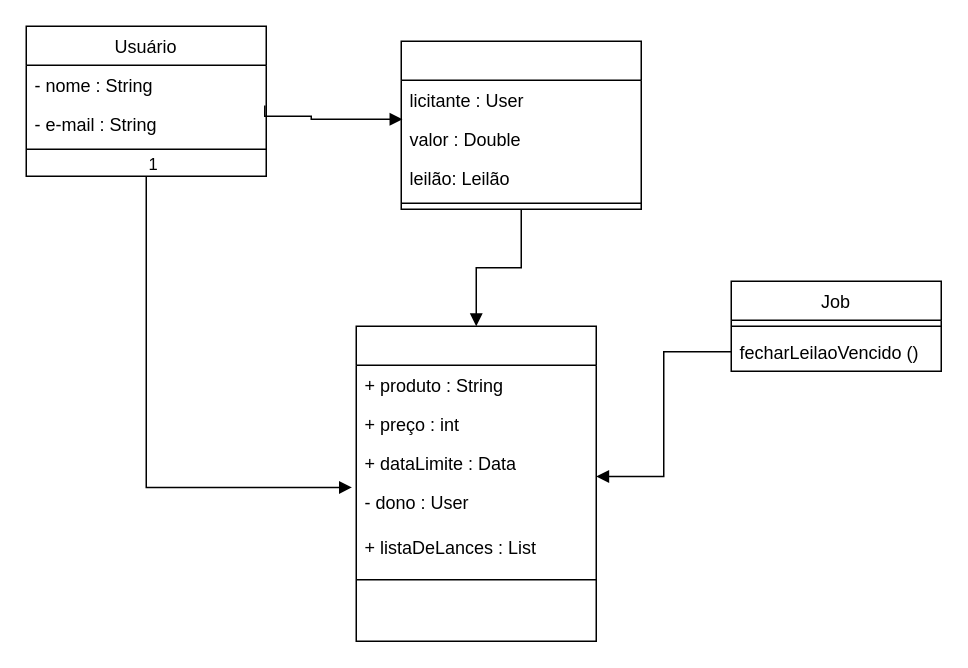
This 968x668 diagram has some shape labels left out. Here are the shapes that lost their labels. From the top down, the box of each, then its label:
(400, 40, 641, 209): Lance
(355, 325, 596, 641): Leilão
